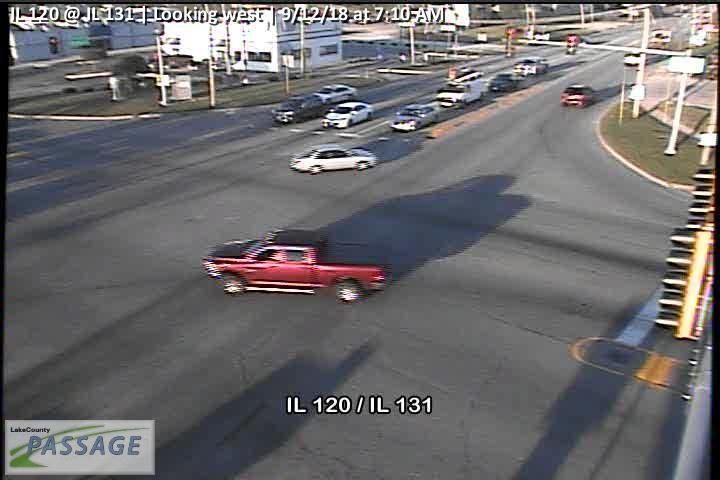SUV: (269, 93, 325, 125), (560, 83, 601, 107), (513, 55, 548, 76)
Sedan: (287, 143, 378, 174), (320, 101, 375, 129), (388, 103, 439, 131), (311, 83, 358, 104), (488, 72, 522, 91)
Truck: (200, 227, 393, 305), (436, 69, 487, 109)
